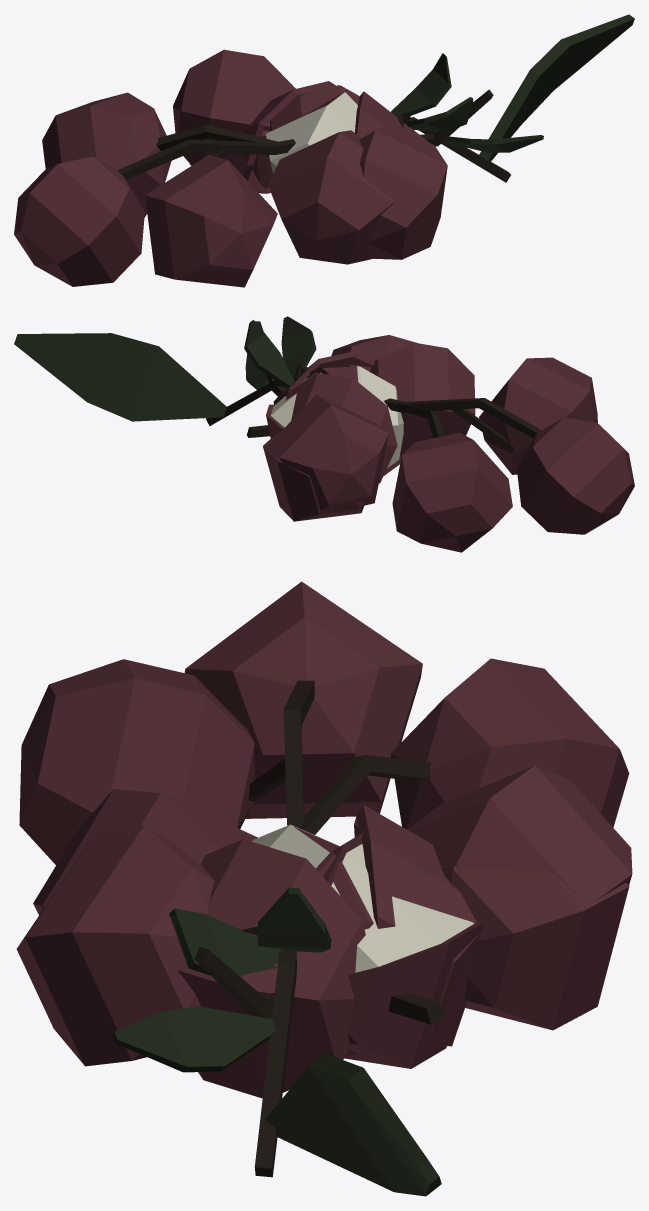
The picture shows the model from 3 angles, top to bottom: view 1: azimuth 30°, elevation 25°; view 2: azimuth 150°, elevation 25°; view 3: azimuth 270°, elevation 25°; orthographic projection. The views are drawn at different scales.
Visible parts, largest first — view 1: 荔枝_2, 荔枝_3, 荔枝_4, 荔枝_5; view 2: 荔枝_2, 荔枝_3, 荔枝_4, 荔枝_5, 荔枝_1; view 3: 荔枝_2, 荔枝_3, 荔枝_4, 荔枝_5, 荔枝_1.
Boxes of the visible parts, x1,y1,x2,y2 form: 荔枝_2: [14, 14, 634, 287]; 荔枝_3: [190, 53, 451, 259]; 荔枝_4: [235, 81, 429, 193]; 荔枝_5: [264, 85, 493, 176]; 荔枝_2: [14, 316, 634, 552]; 荔枝_3: [244, 320, 417, 521]; 荔枝_4: [251, 351, 403, 483]; 荔枝_5: [255, 321, 331, 438]; 荔枝_1: [247, 366, 358, 437]; 荔枝_2: [19, 581, 632, 1196]; 荔枝_3: [16, 825, 629, 1066]; 荔枝_4: [177, 804, 479, 1098]; 荔枝_5: [194, 832, 484, 1068]; 荔枝_1: [294, 826, 443, 1024].
Size of the model in its own units: 19.53 by 4.12 by 8.9.
